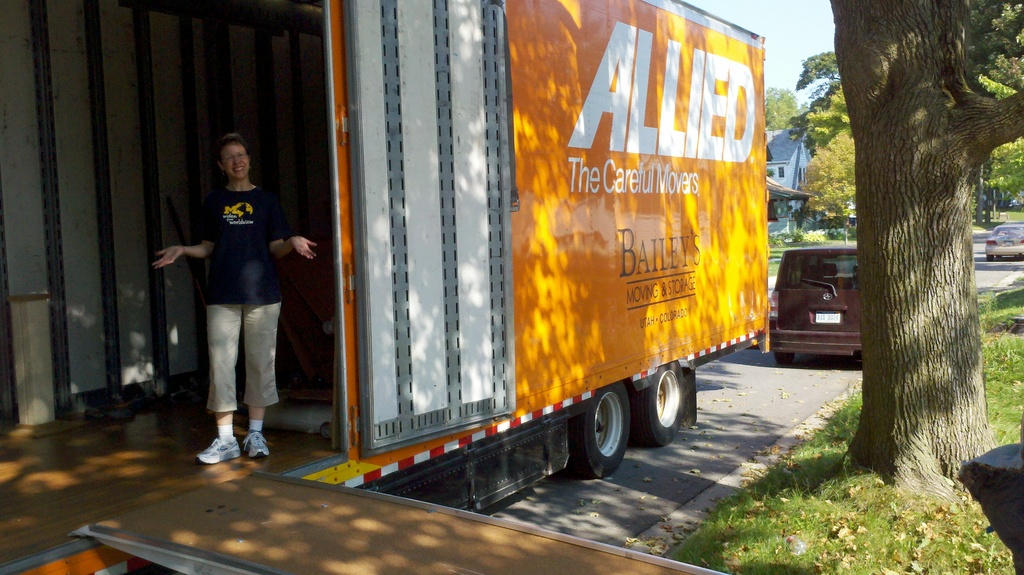car: (744, 214, 884, 378), (972, 210, 1024, 275)
